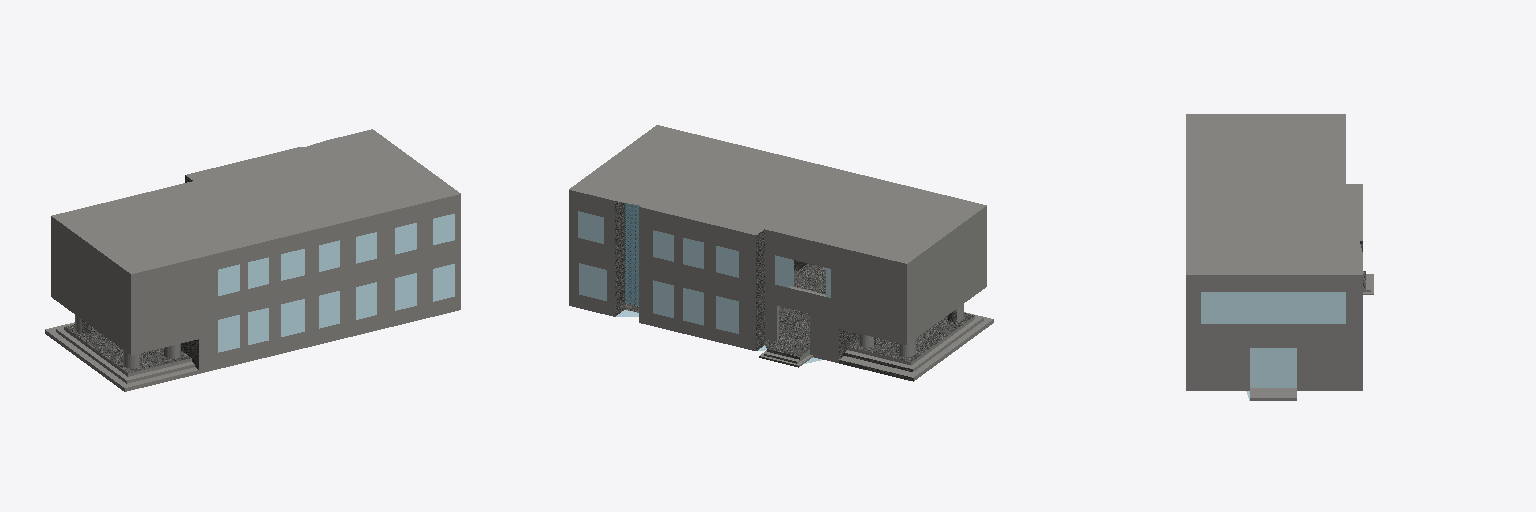
3 renders of one model, left to right at view 1: azimuth 30°, elevation 25°; view 2: azimuth 150°, elevation 25°; view 3: azimuth 270°, elevation 25°, orthographic.
Parts seen in each view (by area): view 1: Mesh1 Group1 Model; view 2: Mesh1 Group1 Model; view 3: Mesh1 Group1 Model.
Part boxes in pixels (x1,y1,x2,y2): Mesh1 Group1 Model: (45,129,460,391); Mesh1 Group1 Model: (569,125,993,381); Mesh1 Group1 Model: (1186,114,1373,400).
Size of the model in its own units: 92.27 by 28.67 by 42.23.
6 materials, 2 textured.